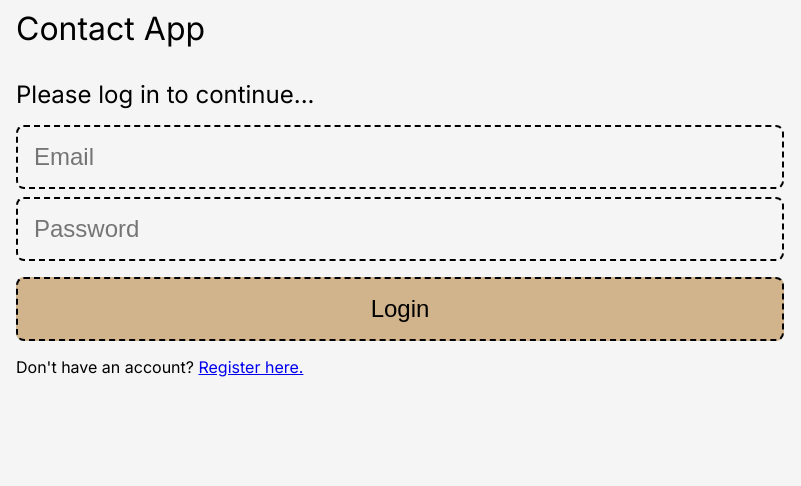
Test case: Home spec › should display contact list correctly
Type "john.doe@gmail.com" into the field with placeholder "Email". click: coordinates (400, 157)
box: [16,125,784,189]
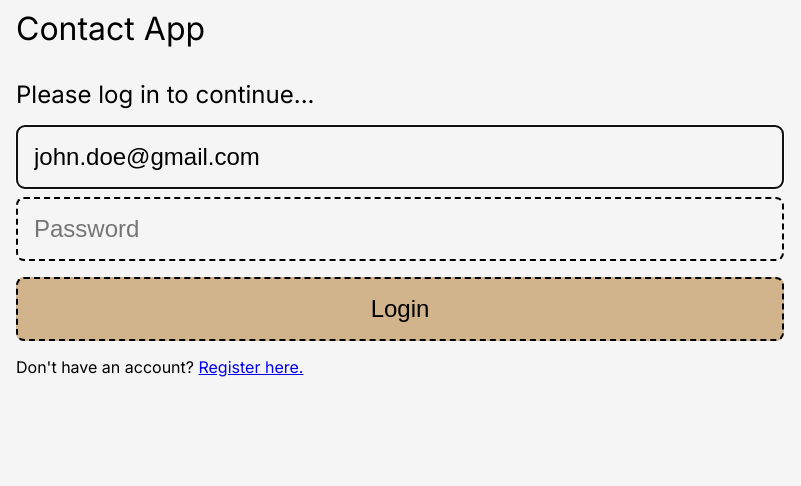
Type "password" into the password field with placeholder "Password". click: coordinates (400, 229)
box: [16,197,784,261]
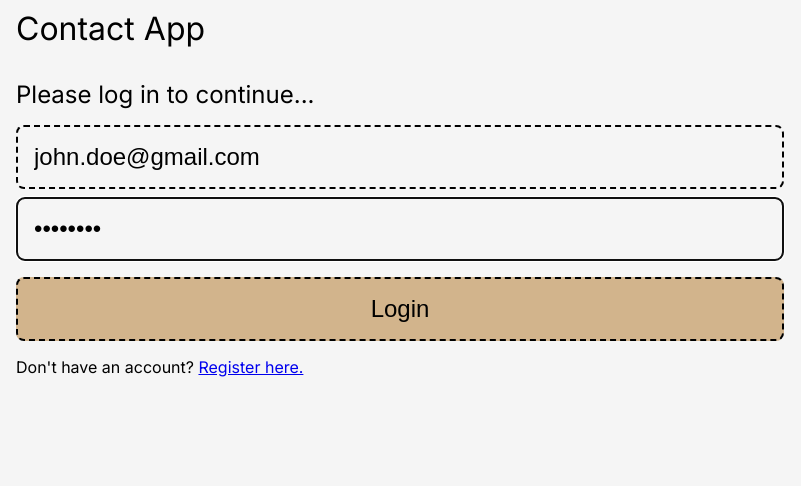
Click the button "Login". click: coordinates (400, 309)
box: [16,277,784,341]
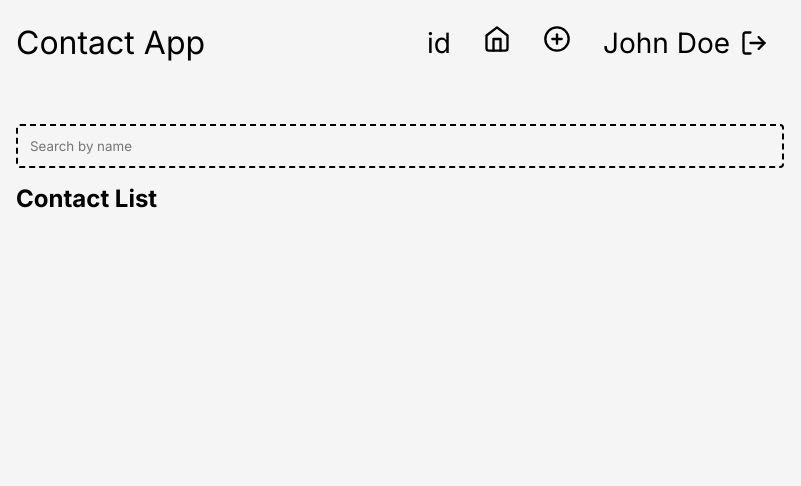
Open "http://localhost:5173/"
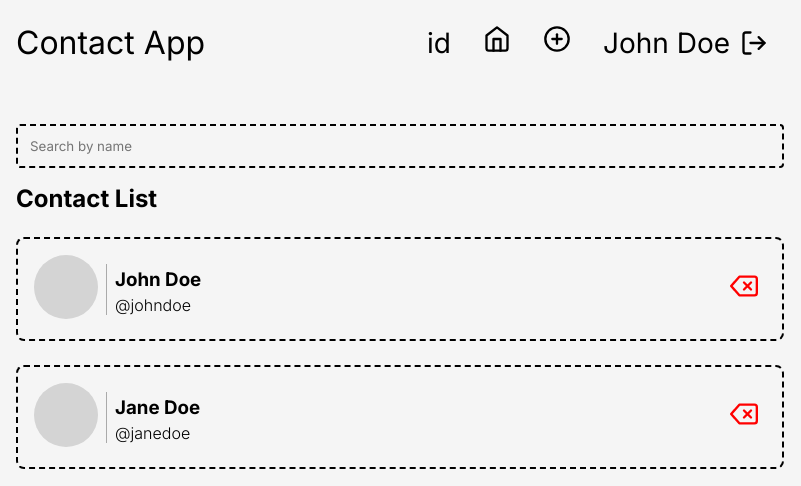
expect the heading "John Doe" is shown: met, box [115,268,201,290]
expect the text "@johndoe" is shown: met, box [115,294,191,314]
expect the heading "Jane Doe" is shown: met, box [115,396,200,418]
